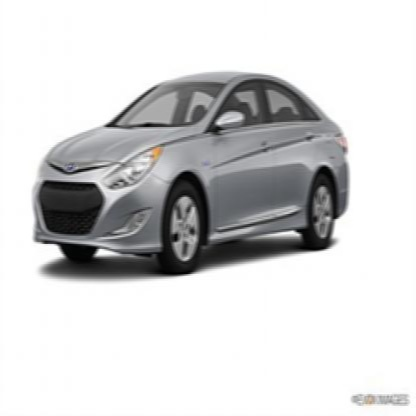Vehicle: (36, 72, 350, 277)
